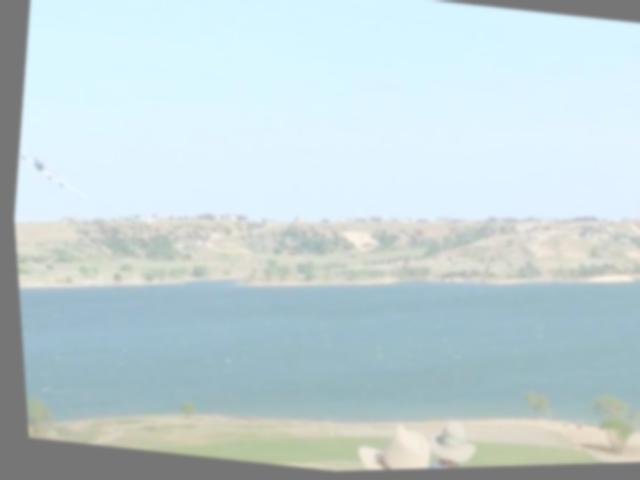iha: (10, 121, 96, 200)
